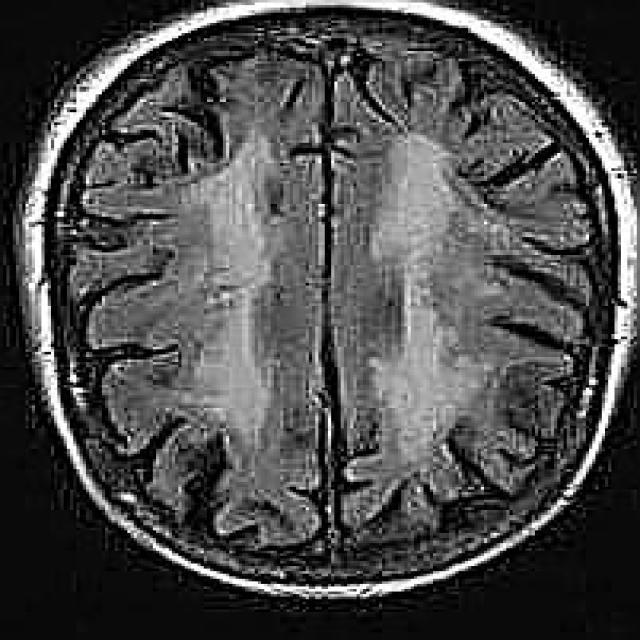notumor: (32, 5, 637, 609)
